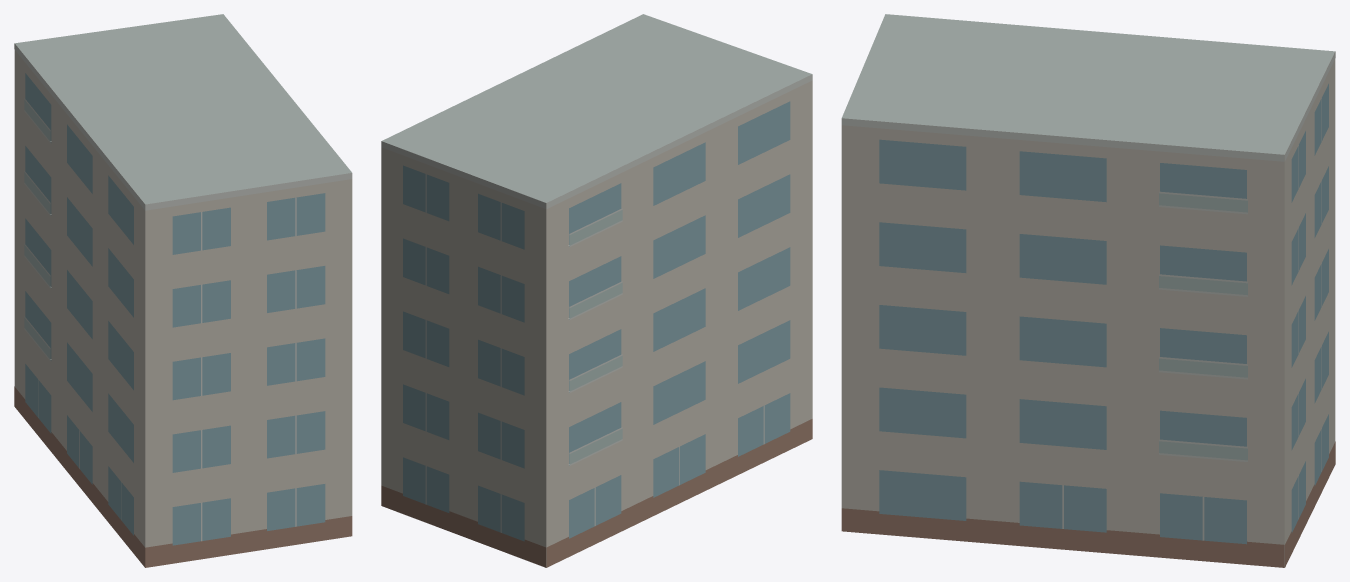
File: survey-upis-33027508.glb
3 views of the same model, side by side, from view 1: azimuth 30°, elevation 25°; view 2: azimuth 150°, elevation 25°; view 3: azimuth 270°, elevation 25° (orthographic). The views are drawn at different scales.
Visible parts, largest first — view 1: survey-upis-33027508.tmp; view 2: survey-upis-33027508.tmp; view 3: survey-upis-33027508.tmp.
Part boxes in pixels (bbox=[...]): survey-upis-33027508.tmp: bbox=[14, 14, 352, 567]; survey-upis-33027508.tmp: bbox=[381, 14, 812, 567]; survey-upis-33027508.tmp: bbox=[841, 14, 1335, 567].
Size of the model in its own units: 10.5 by 14.35 by 15.56.
